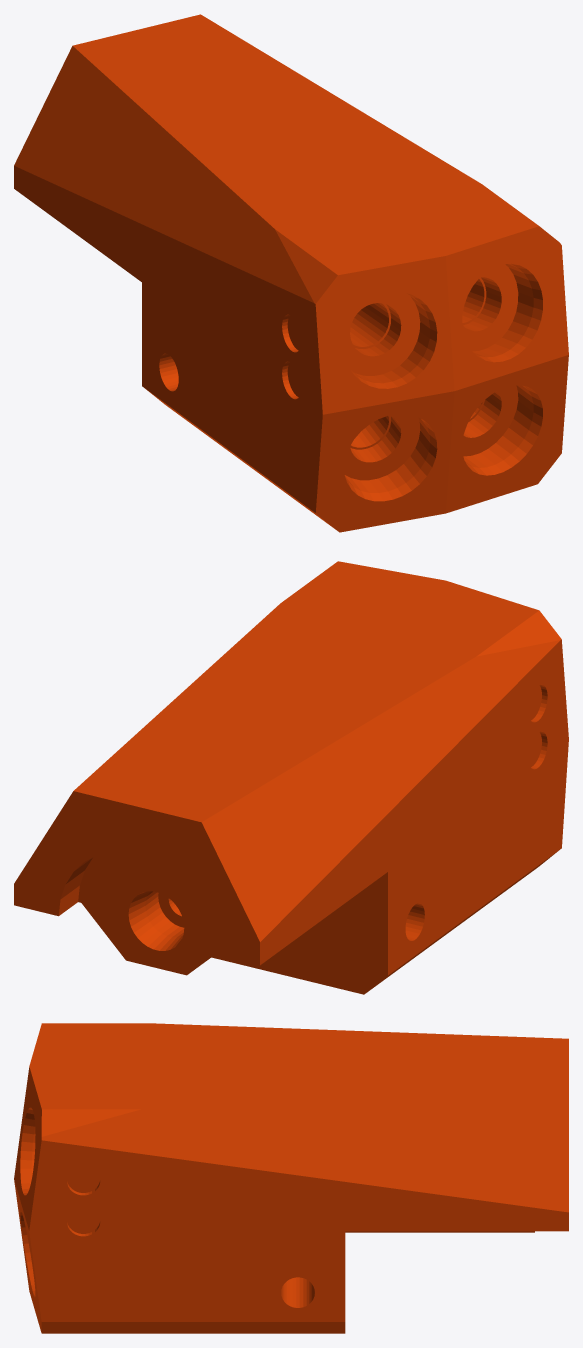
The model's file is y-splitter3_2.obj.
The picture shows the model from 3 angles, top to bottom: view 1: azimuth 30°, elevation 25°; view 2: azimuth 150°, elevation 25°; view 3: azimuth 270°, elevation 25°; orthographic projection. The views are drawn at different scales.
Visible parts, largest first — view 1: Object.1; view 2: Object.1; view 3: Object.1.
Boxes of the visible parts, x1,y1,x2,y2 form: Object.1: (14,14,568,532); Object.1: (14,561,568,994); Object.1: (14,1023,568,1333).
Bounding box in the file's own units: 22 × 22 × 49.16.
